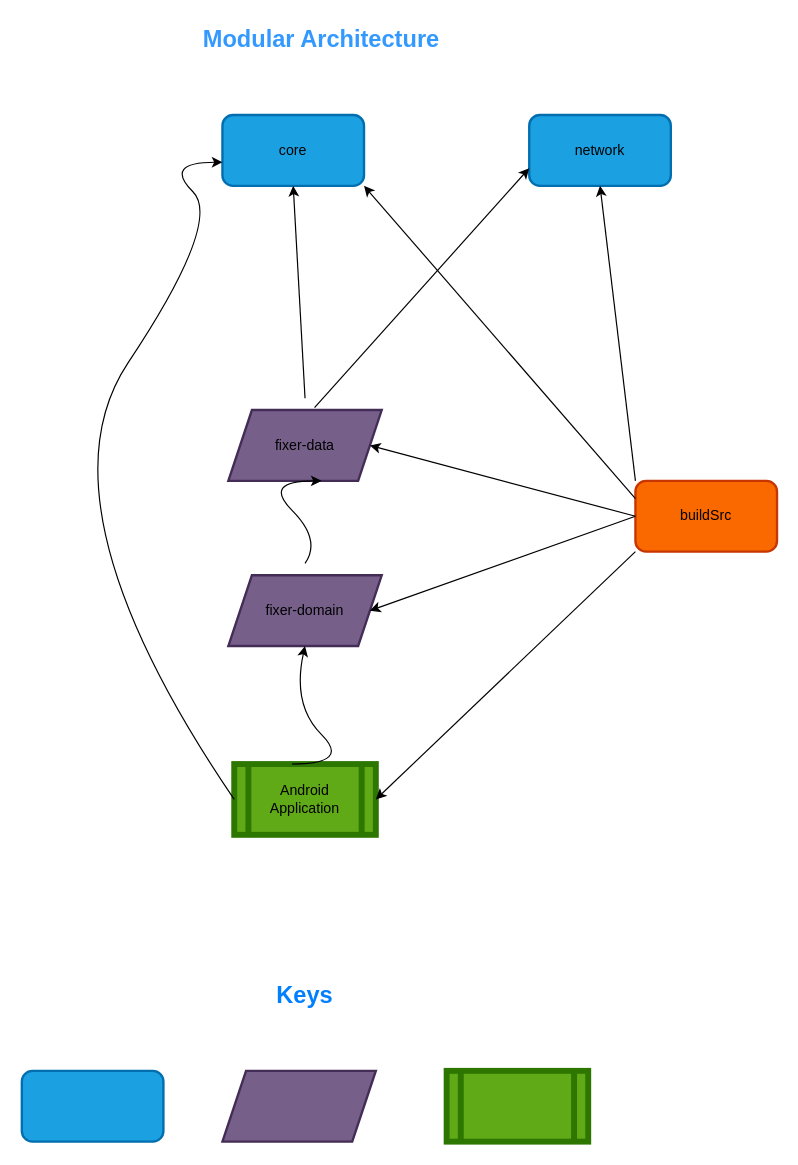
Image size: 798x1165. Some labels were removed from this diagram. Here are the shapes that lost their labels. From the top down, the centre of each, then its label:
At point 92,1105: "fixer-core-android-library".
At point 298,1105: "android-feature-specific-library".
At point 517,1105: "main application".
